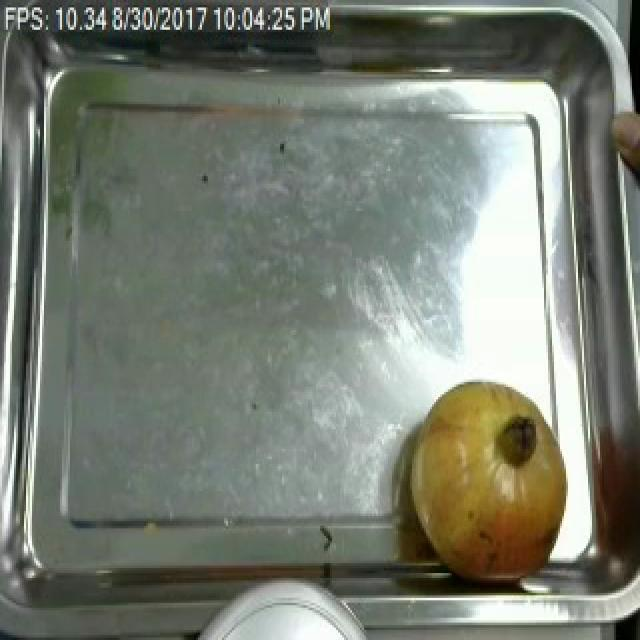fruit: (400, 367, 578, 593), (606, 99, 640, 196)
